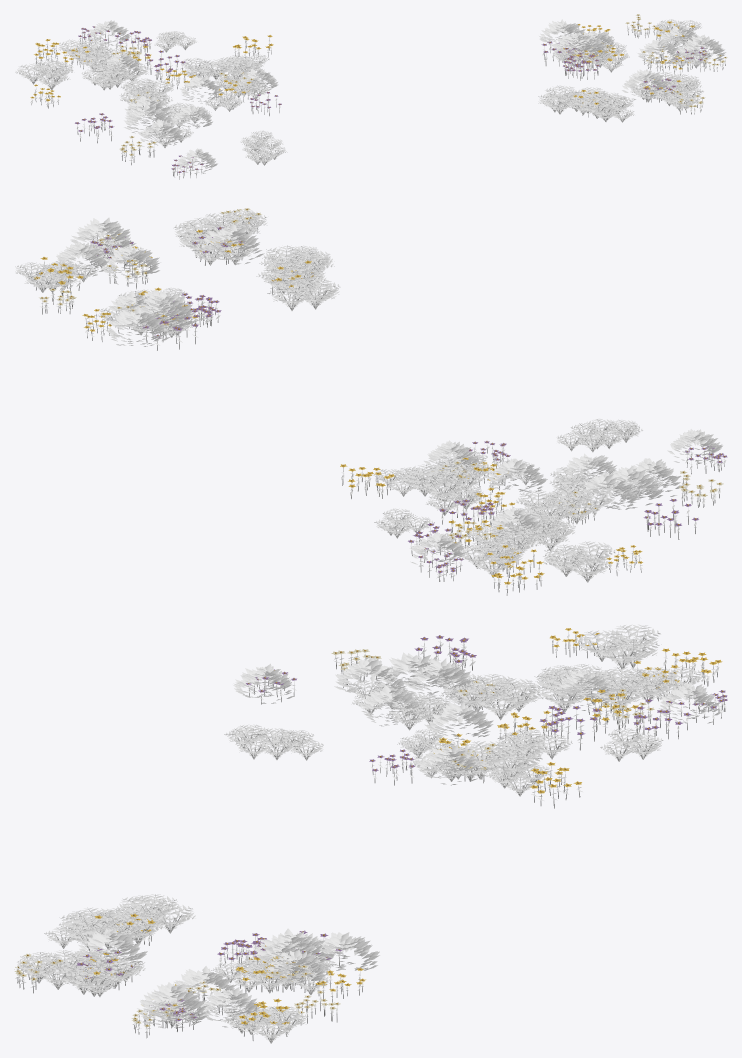
File: SM_DF_Nature_0_1_Flora.fbx
3 renders of one model, top to bottom at view 1: azimuth 30°, elevation 25°; view 2: azimuth 150°, elevation 25°; view 3: azimuth 270°, elevation 25°, orthographic. The views are drawn at different scales.
Parts seen in each view (by area): view 1: SM_DF_Nature_0_1_Flora; view 2: SM_DF_Nature_0_1_Flora; view 3: SM_DF_Nature_0_1_Flora.
Part boxes in pixels (x1,y1,x2,y2): SM_DF_Nature_0_1_Flora: (15, 14, 727, 179); SM_DF_Nature_0_1_Flora: (15, 208, 727, 595); SM_DF_Nature_0_1_Flora: (14, 624, 727, 1043).
Bounding box in the file's own units: 2808 × 2008 × 211.
